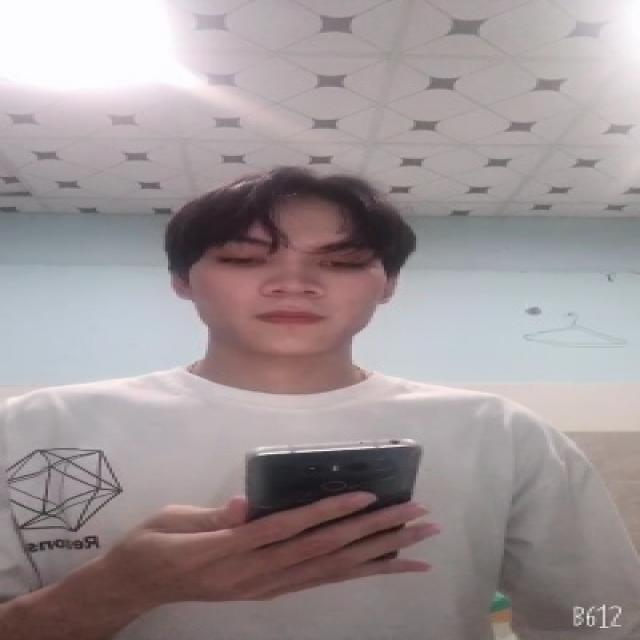Phone: (244, 436, 426, 564)
